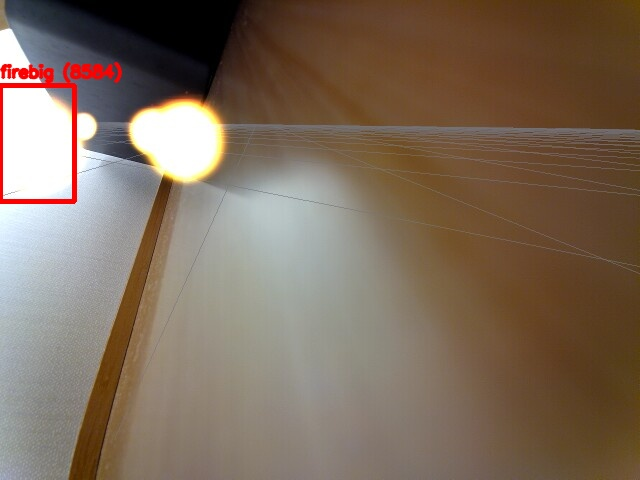firebig: (0, 85, 74, 201)
